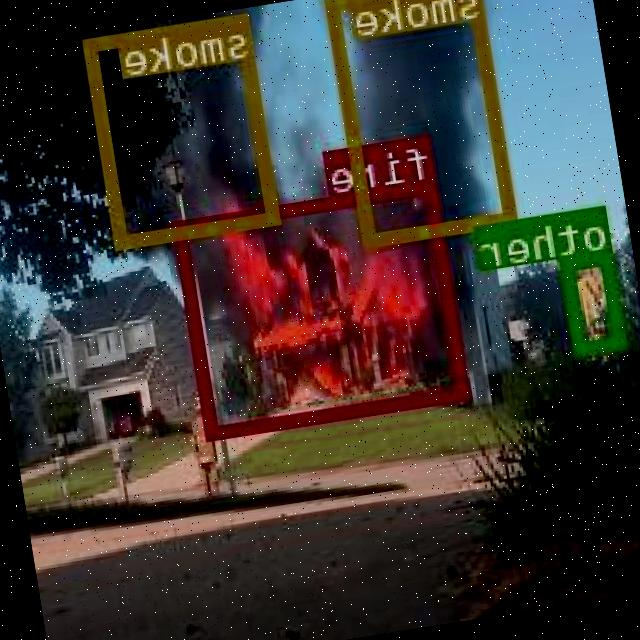fire: (176, 178, 472, 438)
smoke: (86, 11, 284, 248), (328, 0, 519, 243)
